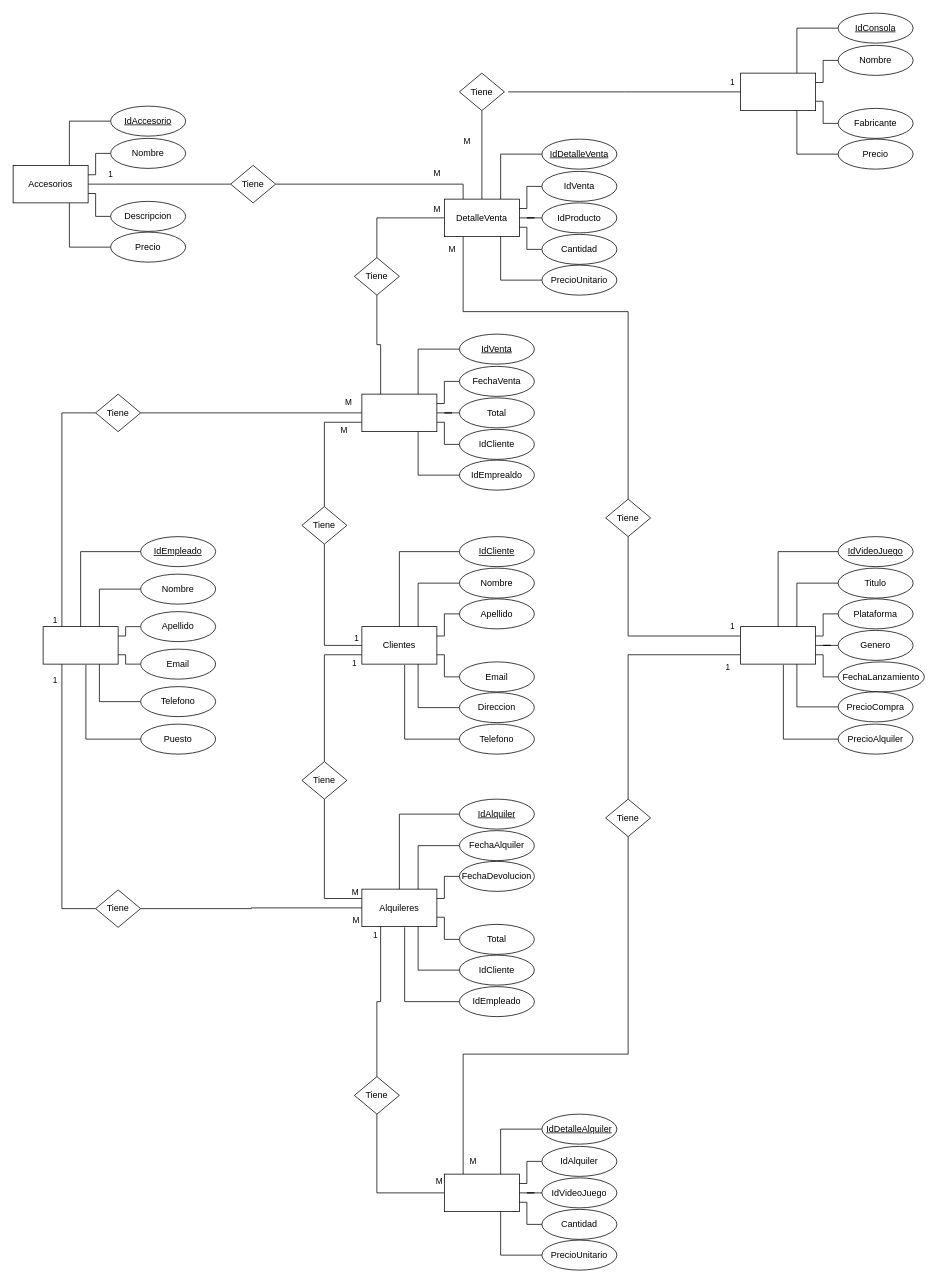
This 938x1283 diagram has some shape labels left out. Here are the shapes that lost their labels. From the top down, the centre of each, then its label:
At pixel 778 91: "Consolas".
At pixel 399 412: "Ventas".
At pixel 80 645: "Empleados".
At pixel 778 645: "VideoJuegos".
At pixel 481 1192: "DetalleAlquiler".
